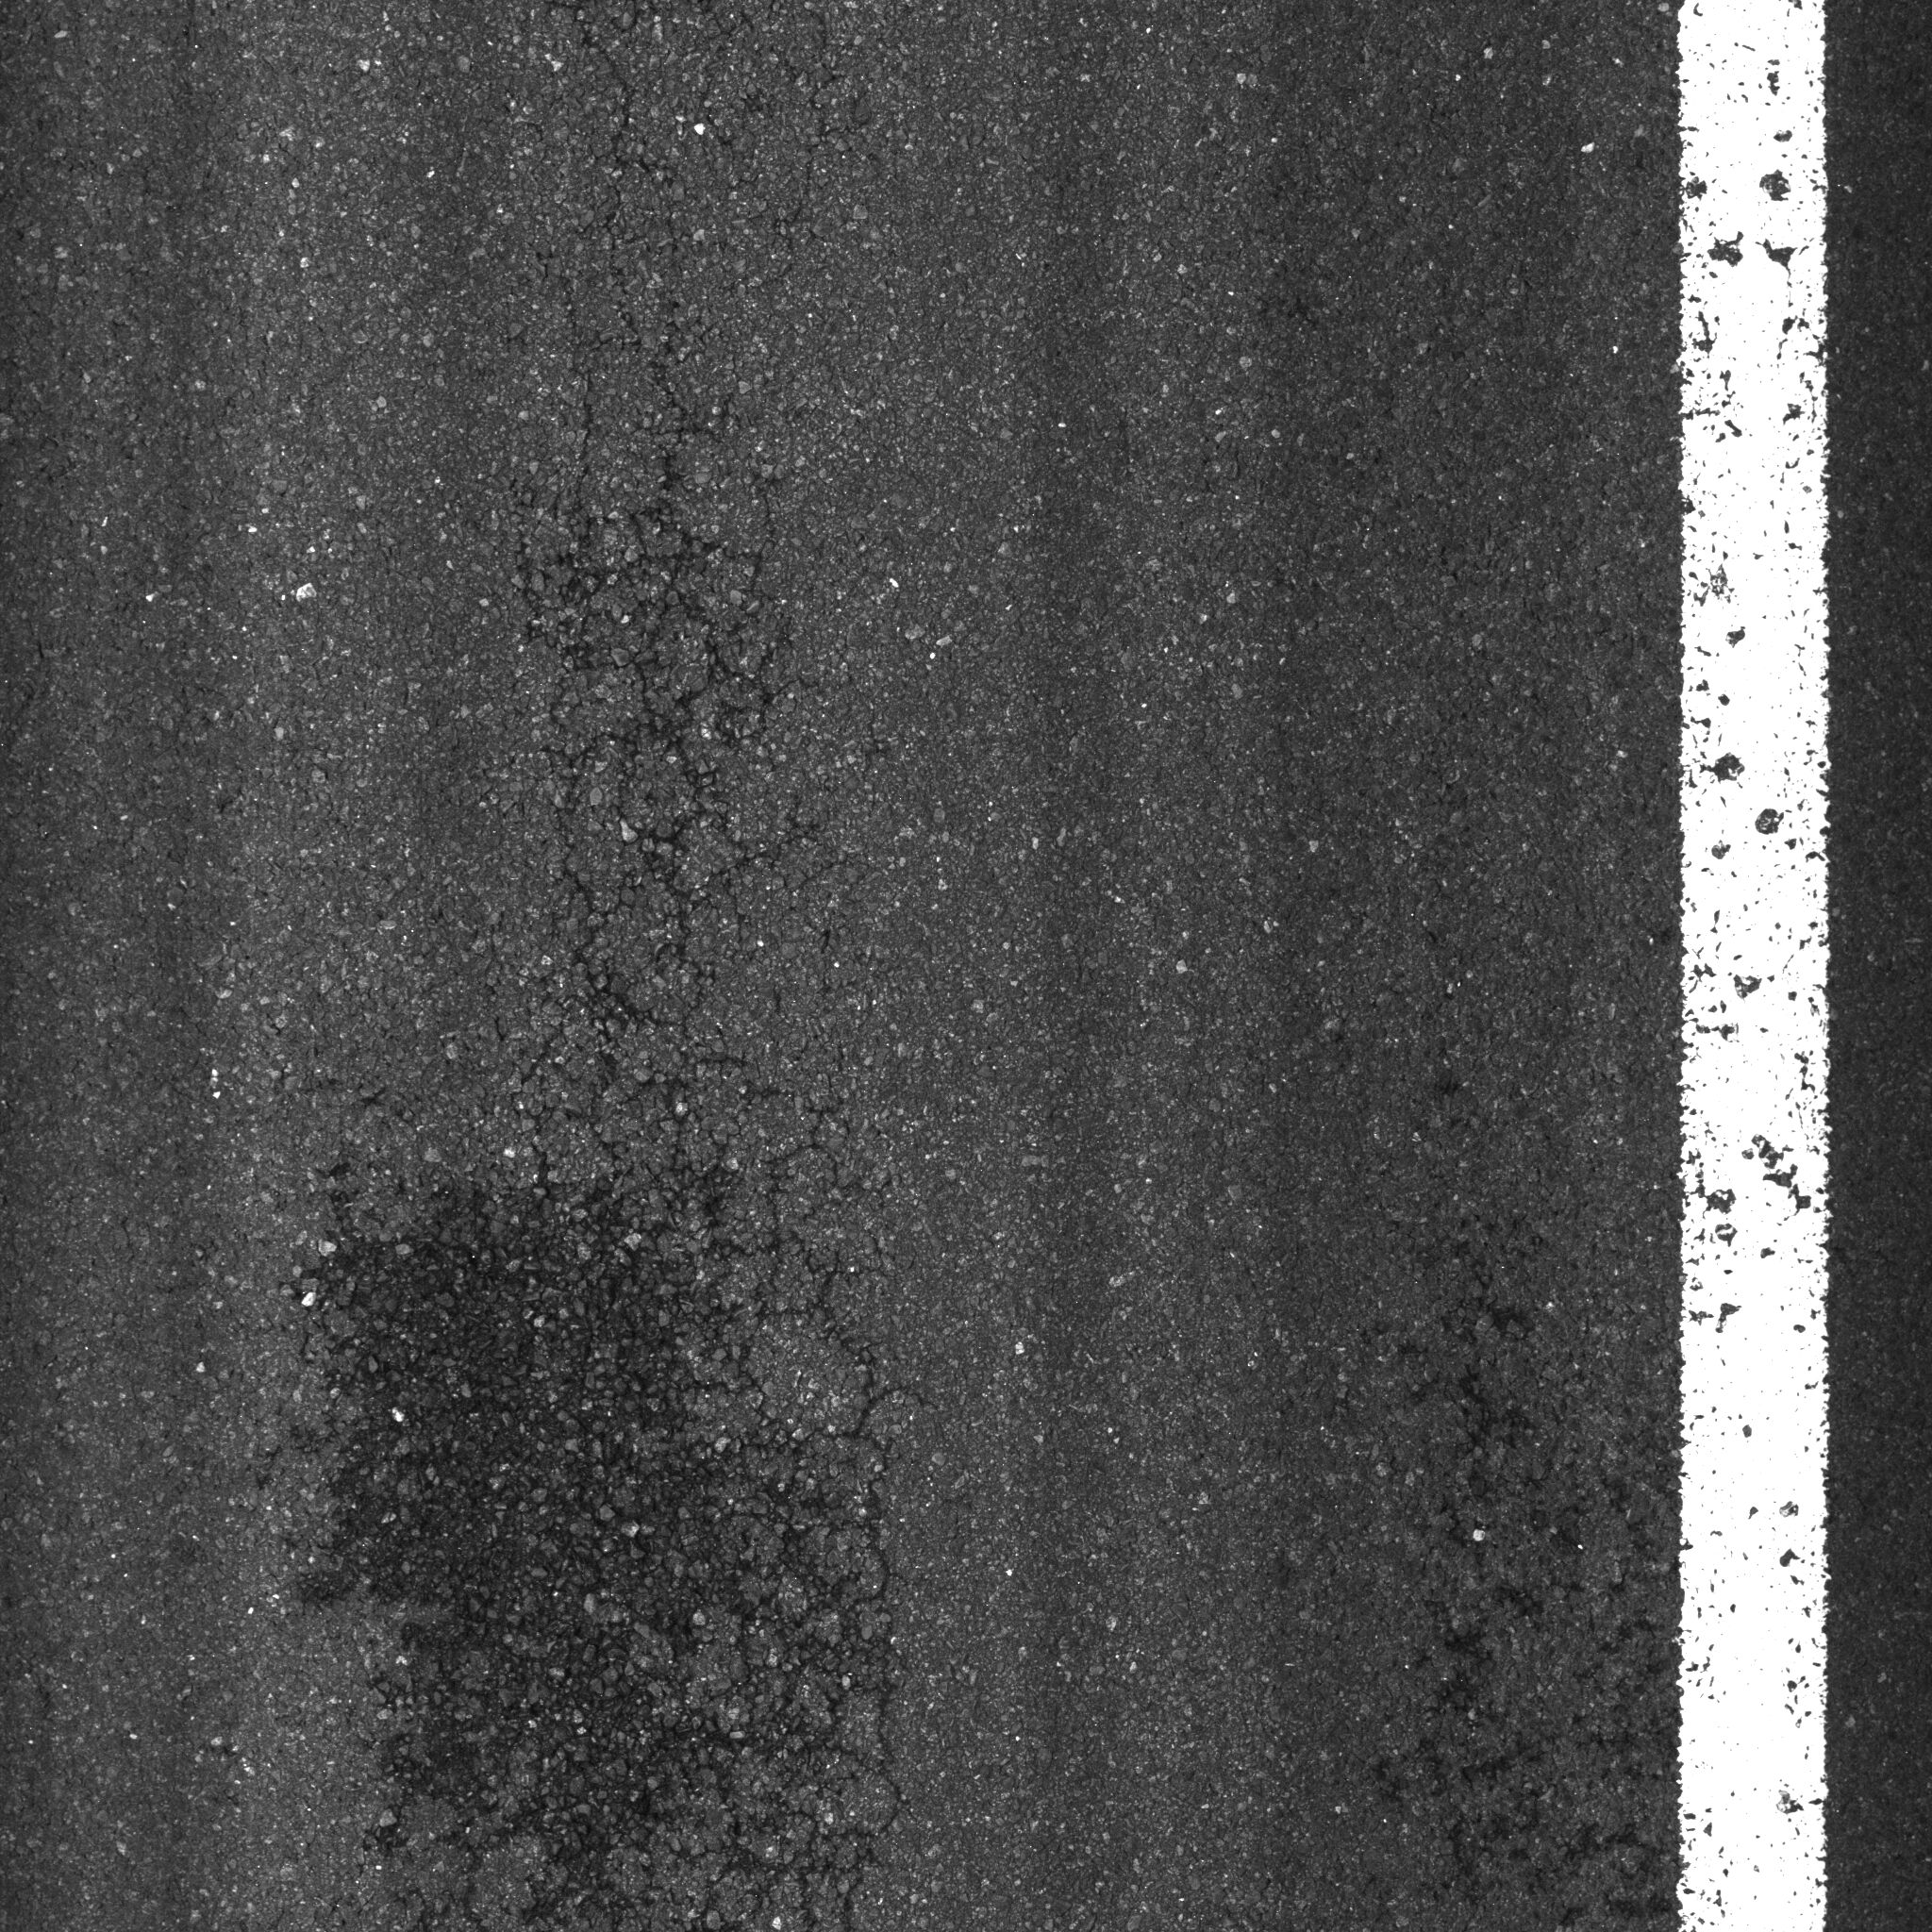alligator: (255, 122, 959, 1928)
